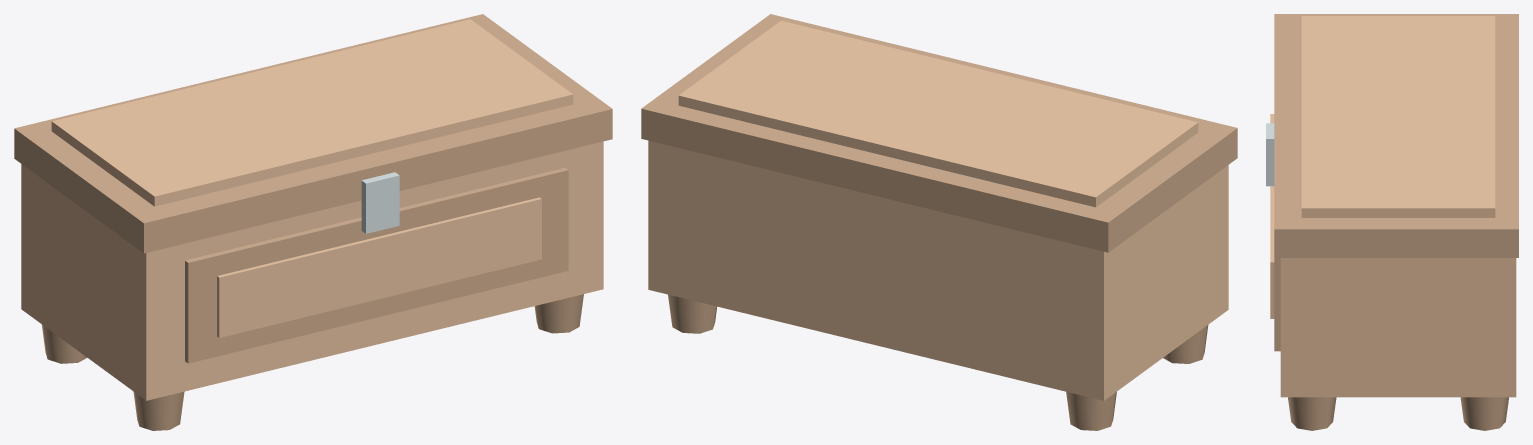
The model's file is chestCedar.glb.
3 views of the same model, side by side, from view 1: azimuth 30°, elevation 25°; view 2: azimuth 150°, elevation 25°; view 3: azimuth 270°, elevation 25° (orthographic). The views are drawn at different scales.
Parts seen in each view (by area): view 1: chestCedar, anim:lid; view 2: chestCedar, anim:lid; view 3: anim:lid, chestCedar.
Boxes of the visible parts, box(x1,y1,x2,y2) form: chestCedar: box(21, 141, 603, 430); anim:lid: box(14, 14, 612, 253); chestCedar: box(648, 140, 1228, 430); anim:lid: box(641, 14, 1237, 252); anim:lid: box(1266, 14, 1518, 257); chestCedar: box(1270, 114, 1516, 430).
Size of the model in its own units: 0.487 by 0.23 by 0.2415.
